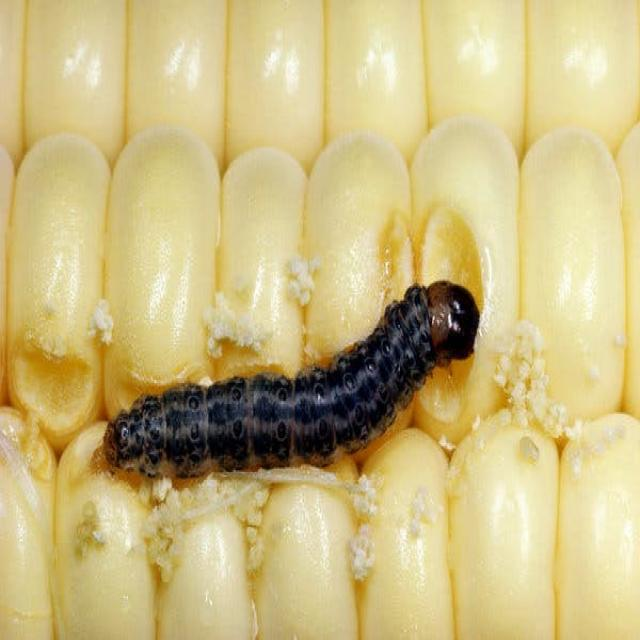cornborer-Larva-: (86, 268, 496, 494)
